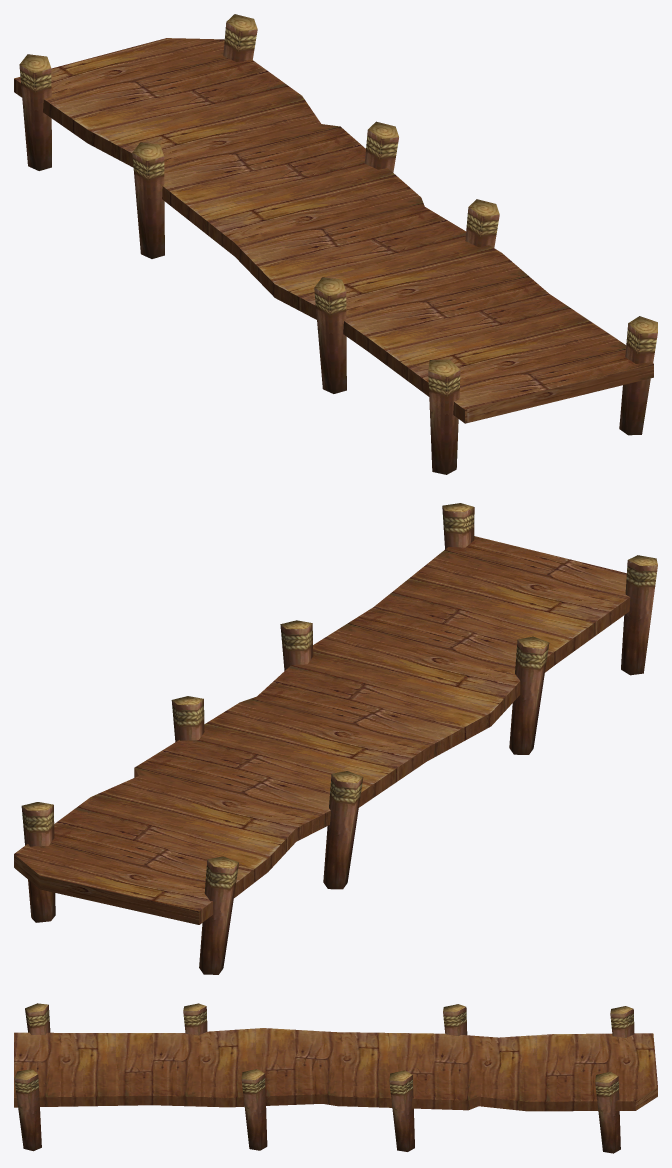
The model's file is environment_Building_luoxiapengdi_001_e.FBX.
3 views of the same model, one above another, from view 1: azimuth 30°, elevation 25°; view 2: azimuth 150°, elevation 25°; view 3: azimuth 270°, elevation 25° (orthographic). The views are drawn at different scales.
Parts seen in each view (by area): view 1: environment_Building_luoxiapengdi_001_e1, environment_Building_luoxiapengdi_001_e2; view 2: environment_Building_luoxiapengdi_001_e1, environment_Building_luoxiapengdi_001_e2; view 3: environment_Building_luoxiapengdi_001_e1, environment_Building_luoxiapengdi_001_e2.
Boxes of the visible parts, box(x1,y1,x2,y2) form: environment_Building_luoxiapengdi_001_e1: box(14, 38, 653, 423); environment_Building_luoxiapengdi_001_e2: box(19, 14, 657, 474); environment_Building_luoxiapengdi_001_e1: box(14, 536, 630, 924); environment_Building_luoxiapengdi_001_e2: box(21, 503, 657, 974); environment_Building_luoxiapengdi_001_e1: box(14, 1028, 657, 1111); environment_Building_luoxiapengdi_001_e2: box(14, 1003, 634, 1153).
Bounding box in the file's own units: 962 × 3294 × 437.
